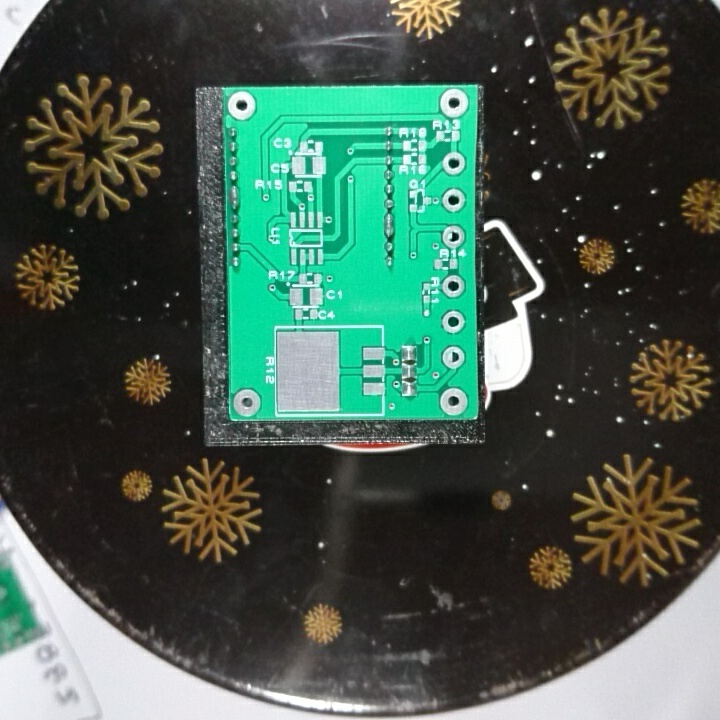F: (437, 86, 471, 120), (230, 387, 265, 419), (225, 89, 257, 122), (439, 386, 470, 417), (442, 186, 470, 215), (440, 272, 468, 300), (438, 309, 467, 336), (439, 343, 468, 370), (440, 223, 468, 250), (442, 151, 467, 178)
P: (381, 210, 398, 238), (228, 183, 244, 211)
